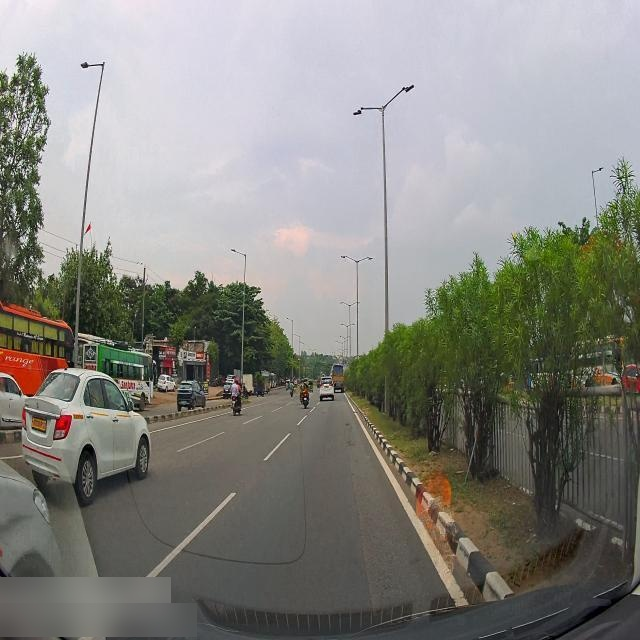pothole: (344, 417, 351, 430)
